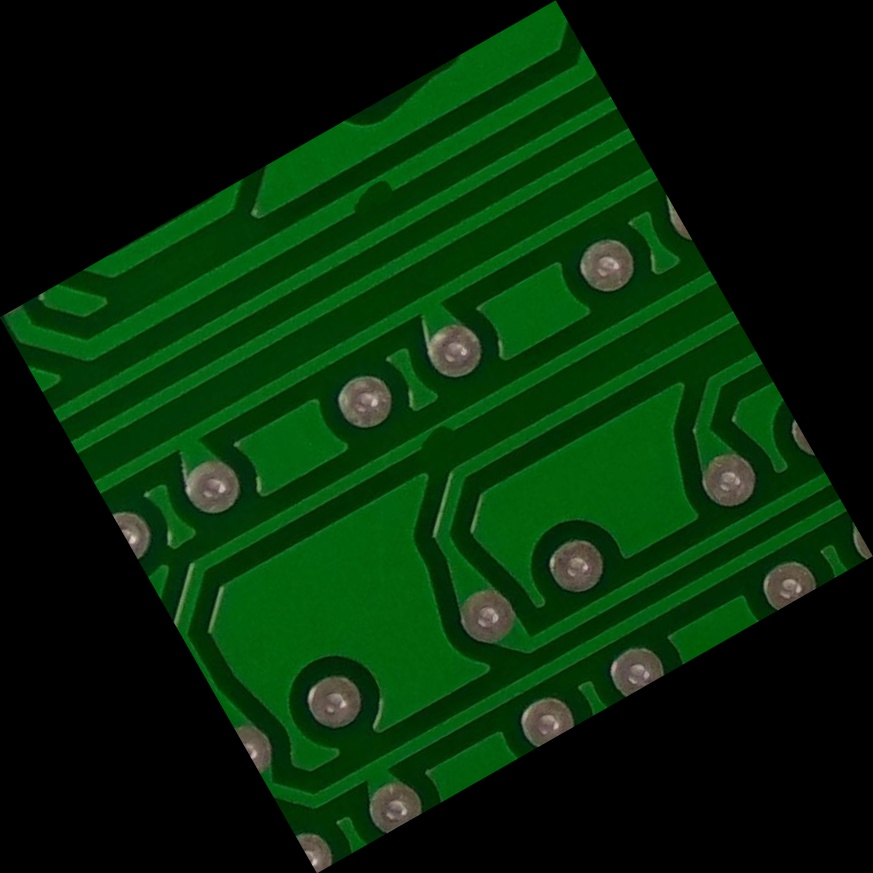mouse_bite: (397, 401, 476, 473)
